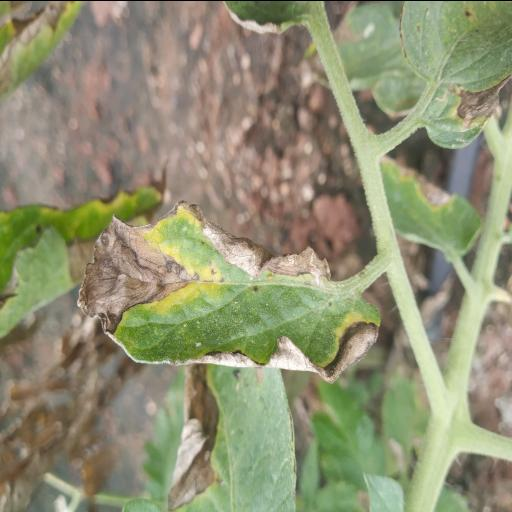Early Blight: (73, 190, 383, 392)
